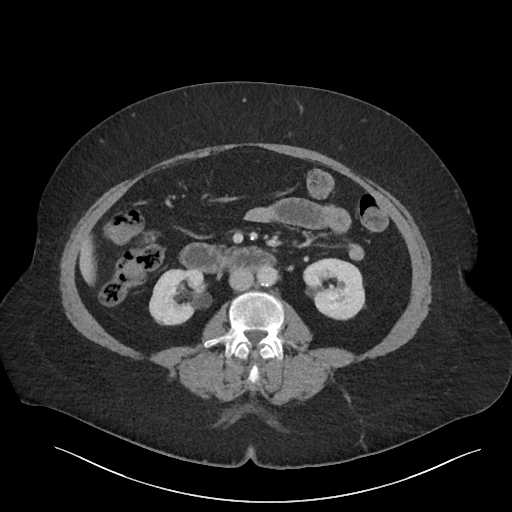Lesion: (338, 280, 346, 292)
